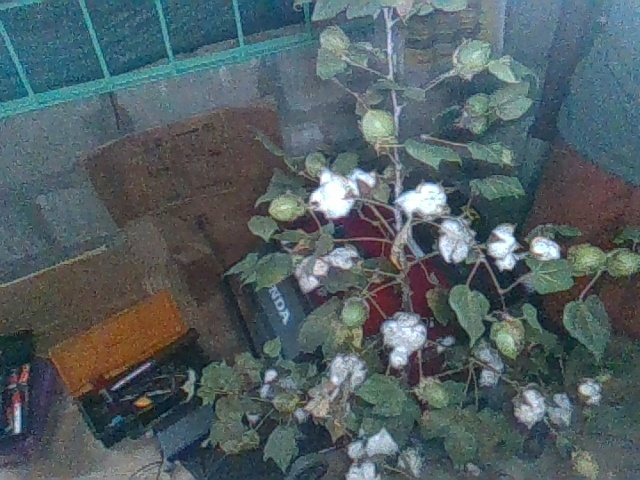cotton: (380, 308, 430, 371), (306, 169, 364, 221), (394, 180, 450, 219), (434, 215, 475, 262), (346, 424, 401, 459), (327, 352, 370, 396), (470, 337, 507, 388), (486, 227, 525, 273), (511, 383, 547, 430), (541, 391, 576, 429), (530, 232, 566, 267), (341, 460, 385, 480), (578, 378, 604, 408)
